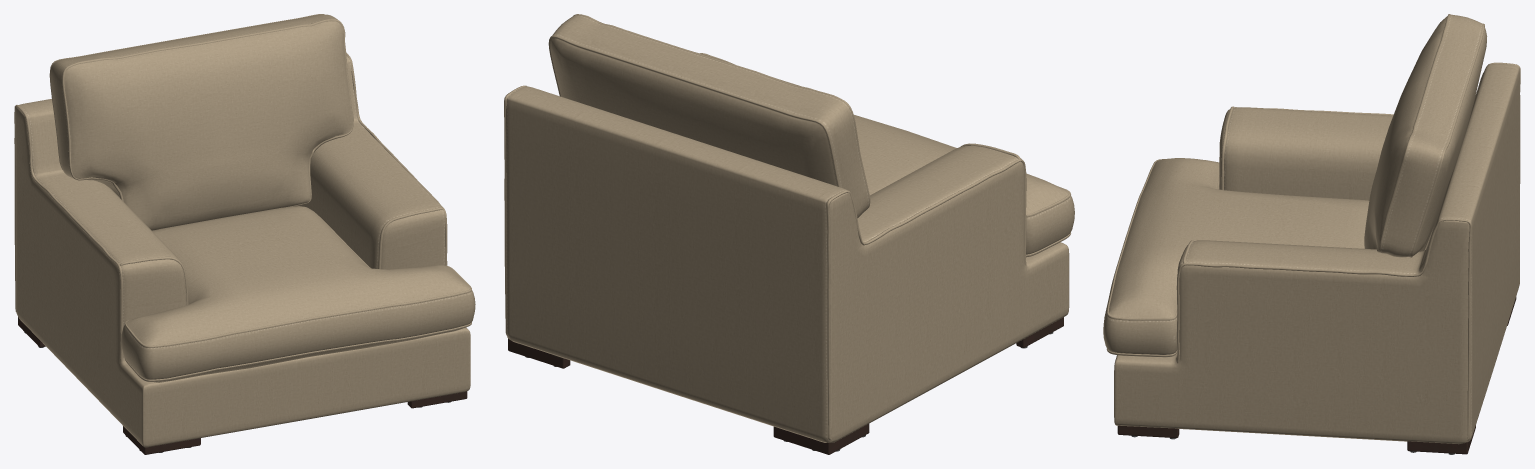
File: office_chair_B072JG3WN7.glb
3 views of the same model, side by side, from view 1: azimuth 30°, elevation 25°; view 2: azimuth 150°, elevation 25°; view 3: azimuth 270°, elevation 25° (orthographic). The views are drawn at different scales.
Visible parts, largest first — view 1: RootNode; view 2: RootNode; view 3: RootNode.
Boxes of the visible parts, bbox=[...] form: RootNode: bbox=[14, 14, 475, 454]; RootNode: bbox=[504, 14, 1074, 454]; RootNode: bbox=[1103, 14, 1520, 454].
Bounding box in the file's own units: 1.29 × 1 × 1.27.
1 material, 1 textured.
